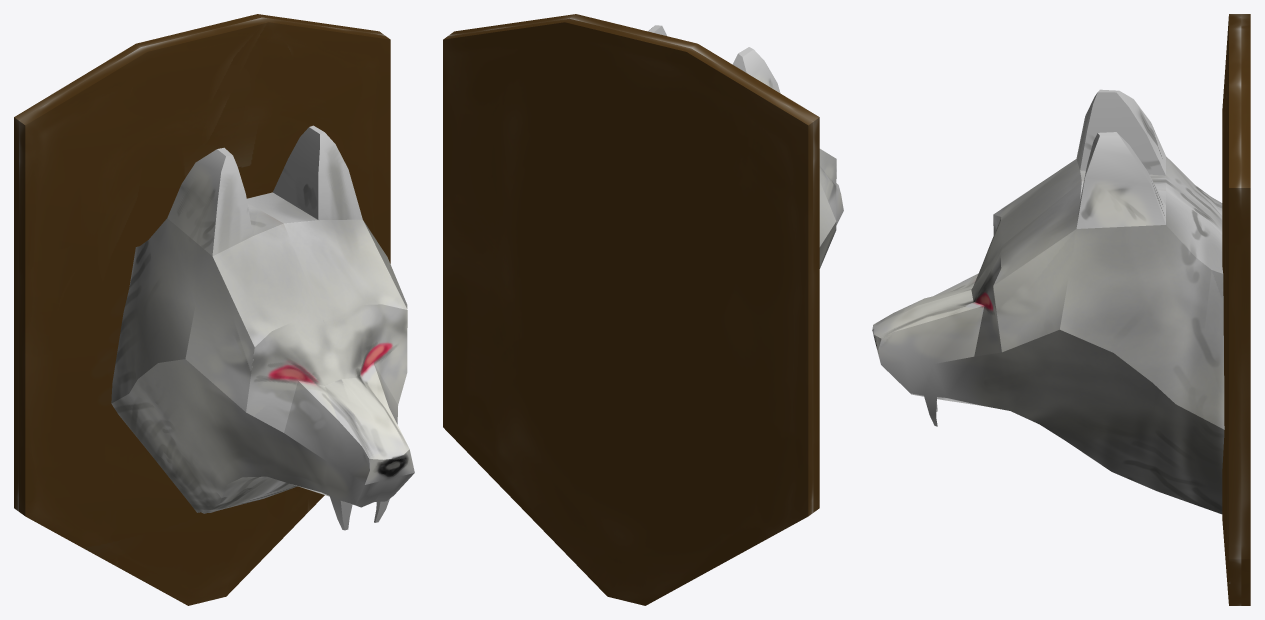
File: Wolf.fbx
3 renders of one model, left to right at view 1: azimuth 30°, elevation 25°; view 2: azimuth 150°, elevation 25°; view 3: azimuth 270°, elevation 25°, orthographic. The views are drawn at different scales.
Visible parts, largest first — view 1: Taulu; view 2: Taulu; view 3: Taulu.
Boxes of the visible parts, x1,y1,x2,y2 form: Taulu: (14, 14, 414, 605); Taulu: (443, 14, 843, 605); Taulu: (872, 14, 1250, 605).
Size of the model in its own units: 130 by 192 by 122.
